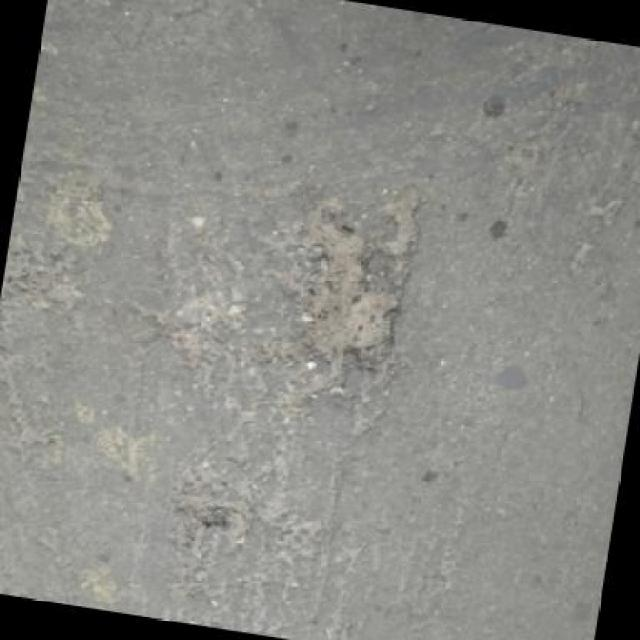pothole1: (266, 186, 428, 379), (176, 494, 233, 532)
